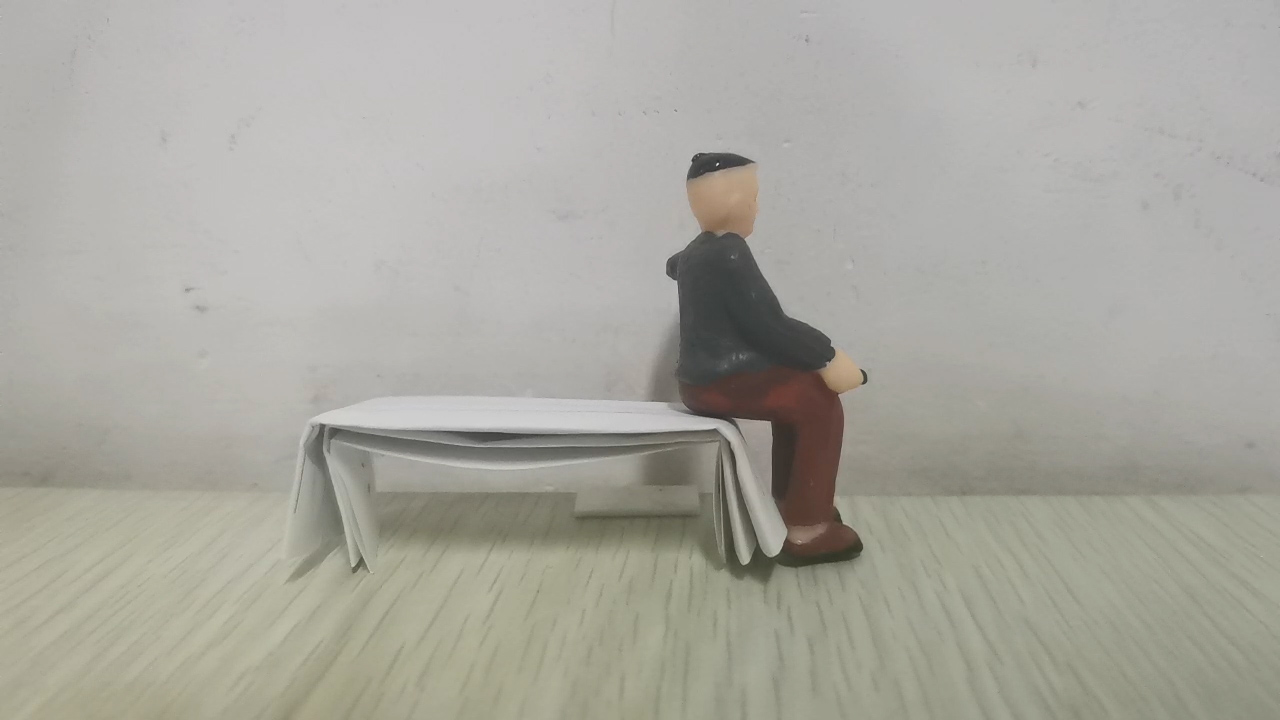person: (665, 150, 870, 569)
